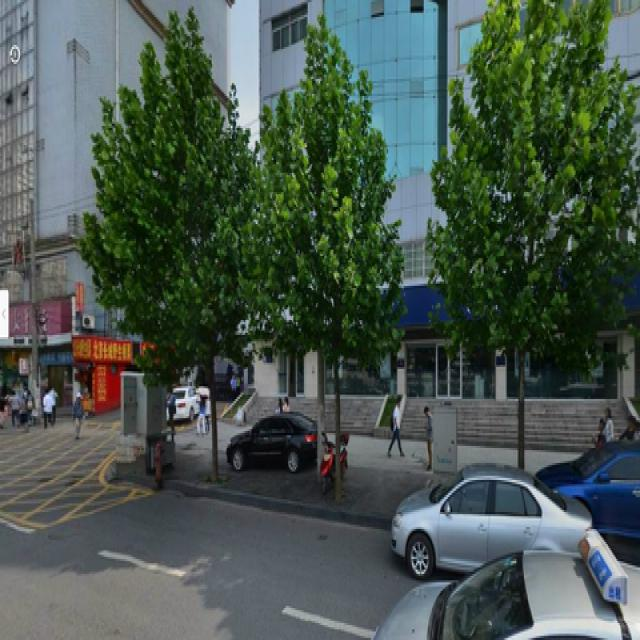meta: (84, 21, 249, 476), (253, 32, 412, 493)
